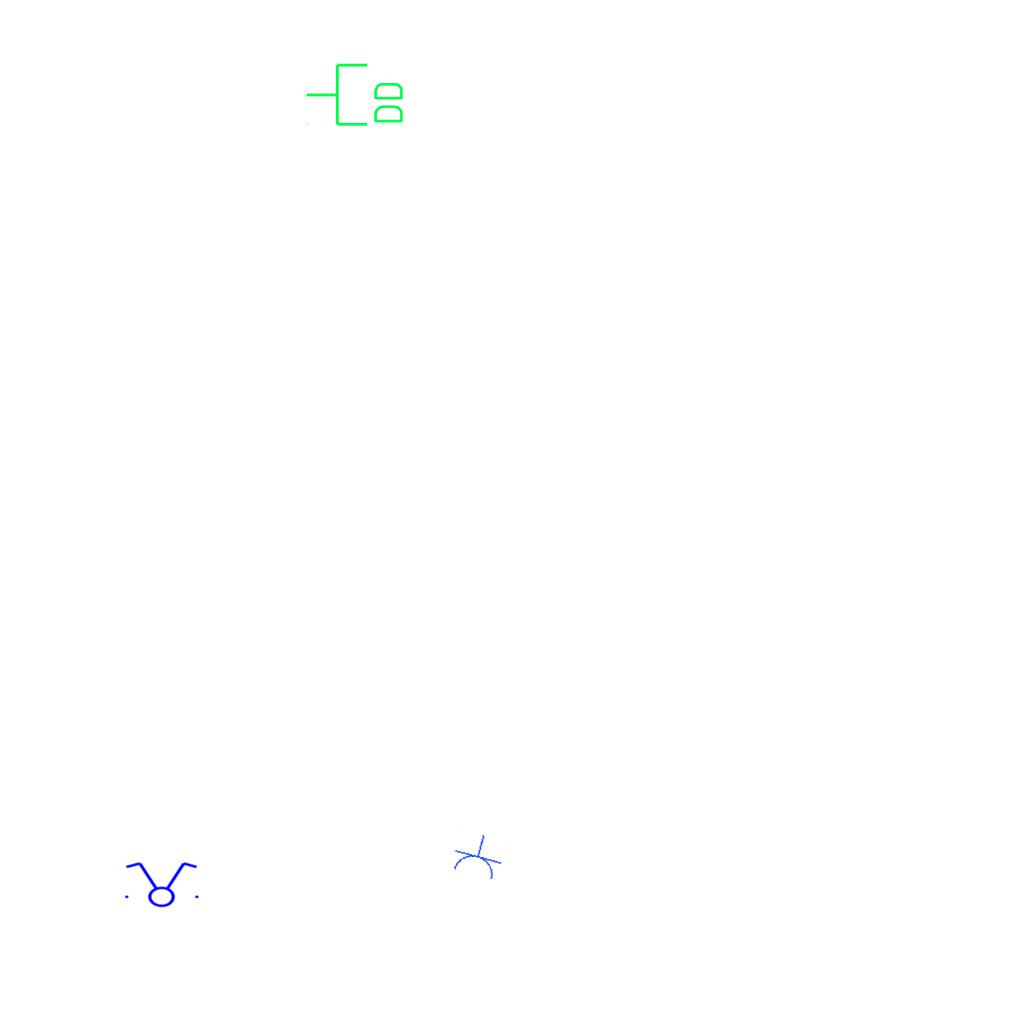Datenanschluss_zweifach: (304, 61, 407, 130)
Schukosteckdose_einfach: (448, 828, 508, 883)
Serienschalter: (119, 860, 203, 908)
